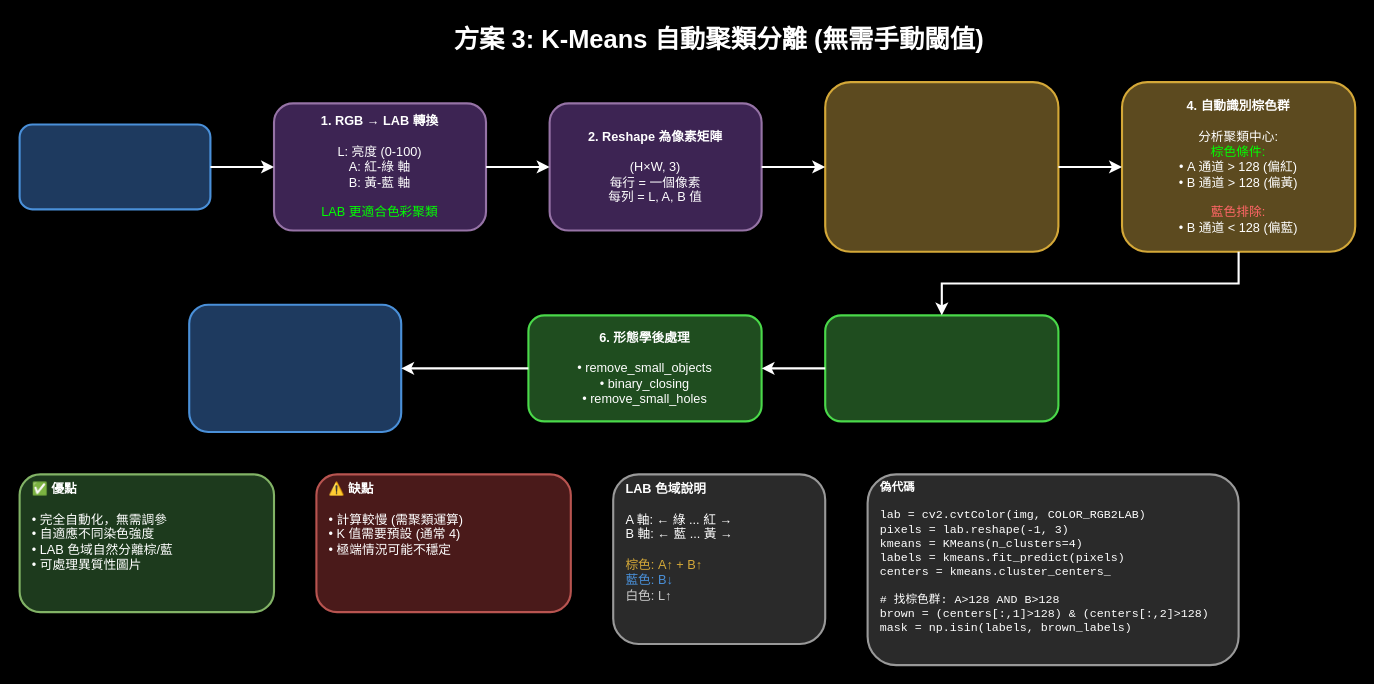
This 1374x684 diagram has some shape labels left out. Each missing label, with the centre of its shape:
"3. K-Means 聚類 (K=4) 自動分成 4 群: • 白色背景 • 藍色細胞核 • 淡棕色區域 • 深棕色膜 無需手動設定閾值" belongs at point 941,166.
"5. 生成二分類 Mask 將屬於棕色群的像素 設為 1 (咖啡色膜) 其餘設為 0 (非膜)" belongs at point 941,368.
"HER2 RGB 圖片 1024×1024×3" belongs at point 114,166.
"咖啡色膜 Mask (0-1 二分類) ✓ 精確分離咖啡色 ✓ 自動排除藍色核" belongs at point 295,367.
